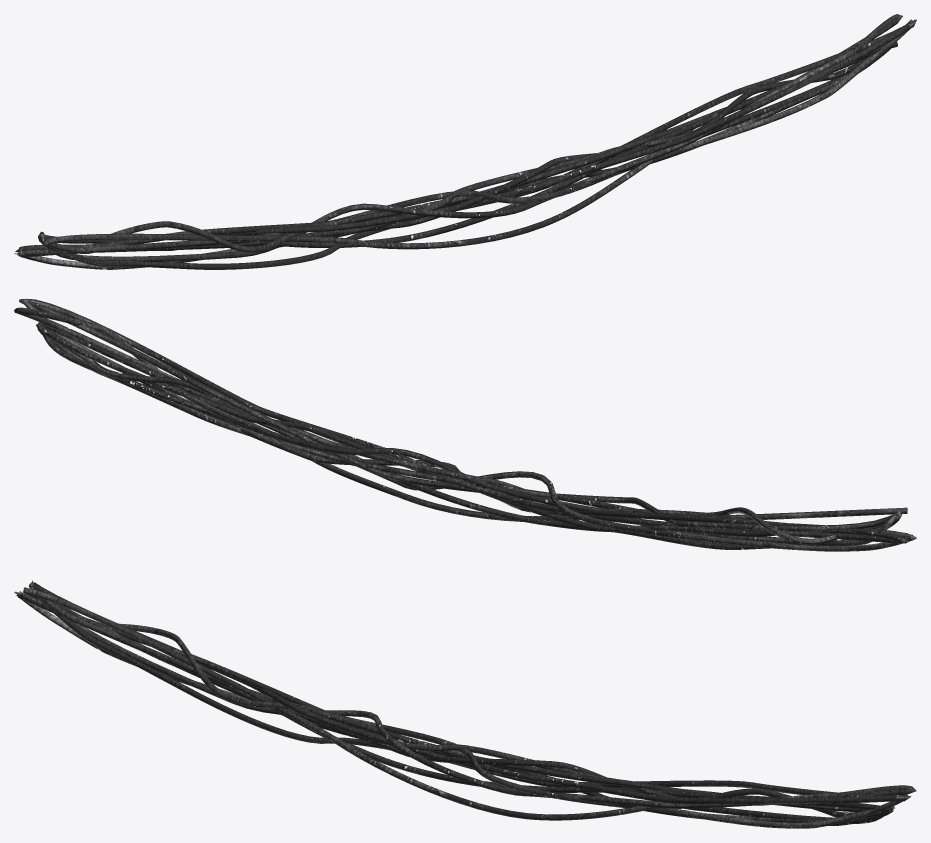
Rendered from Cable3.fbx.
3 views of the same model, one above another, from view 1: azimuth 30°, elevation 25°; view 2: azimuth 150°, elevation 25°; view 3: azimuth 330°, elevation 25° (orthographic).
Visible parts, largest first — view 1: Wire.001; view 2: Wire.001; view 3: Wire.001.
Boxes of the visible parts, bbox=[...] form: Wire.001: bbox=[14, 14, 916, 269]; Wire.001: bbox=[14, 298, 916, 551]; Wire.001: bbox=[14, 580, 916, 828].
Size of the model in its own units: 7855 by 967 by 491.
